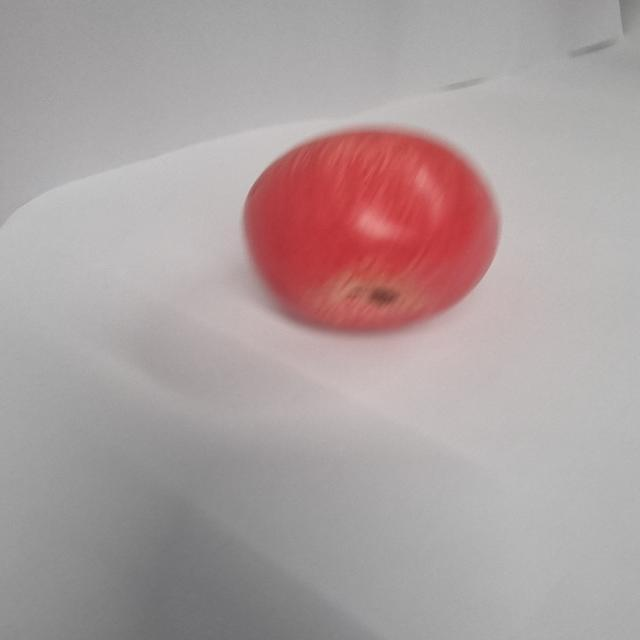apple: (243, 124, 503, 333)
